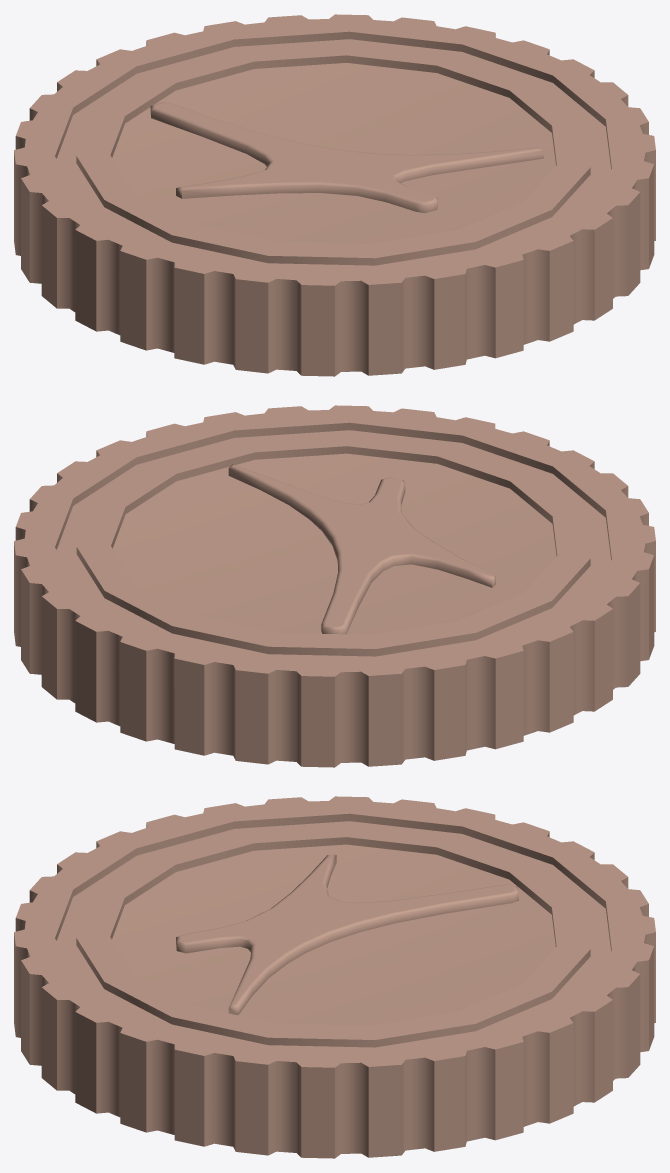
Rendered from coin-transformed.glb.
3 views of the same model, one above another, from view 1: azimuth 30°, elevation 25°; view 2: azimuth 150°, elevation 25°; view 3: azimuth 270°, elevation 25° (orthographic).
Parts seen in each view (by area): view 1: coin; view 2: coin; view 3: coin.
Boxes of the visible parts, box(x1,y1,x2,y2) form: coin: box(14, 14, 655, 376); coin: box(14, 405, 655, 767); coin: box(14, 796, 655, 1158).
Bounding box in the file's own units: 16.13 × 2.6 × 16.13.
